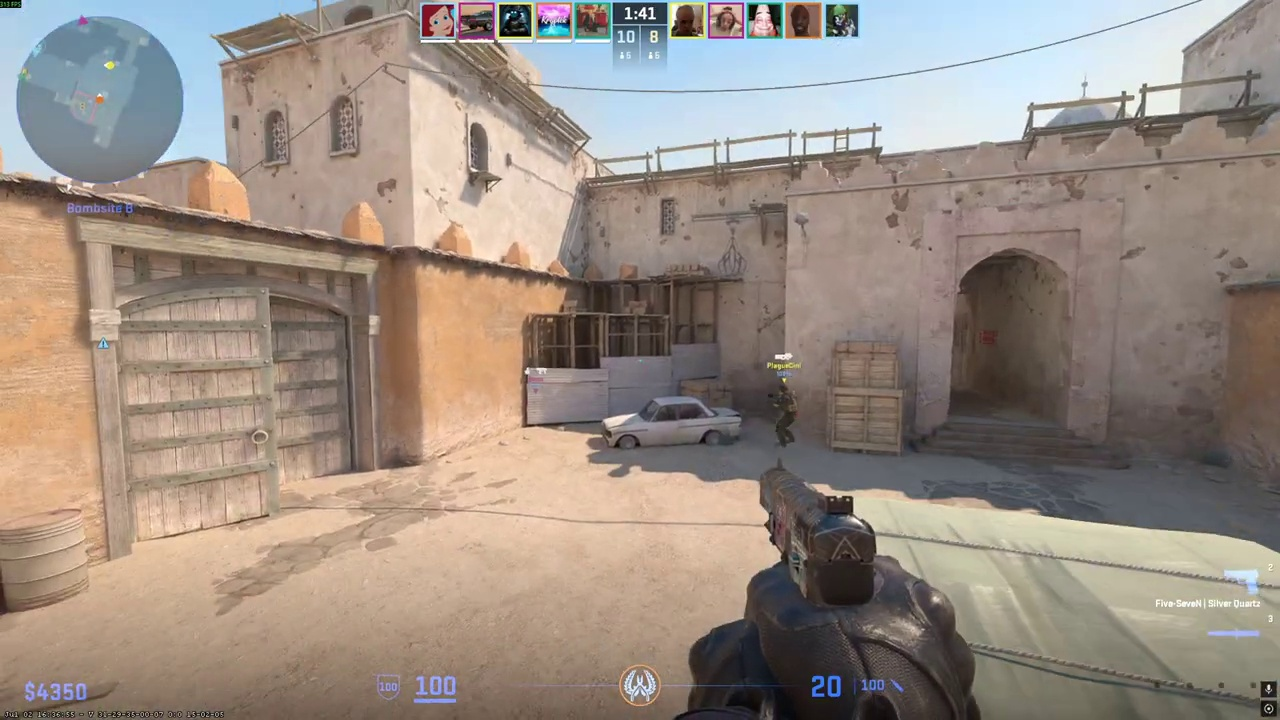CT: (773, 385, 798, 447)
